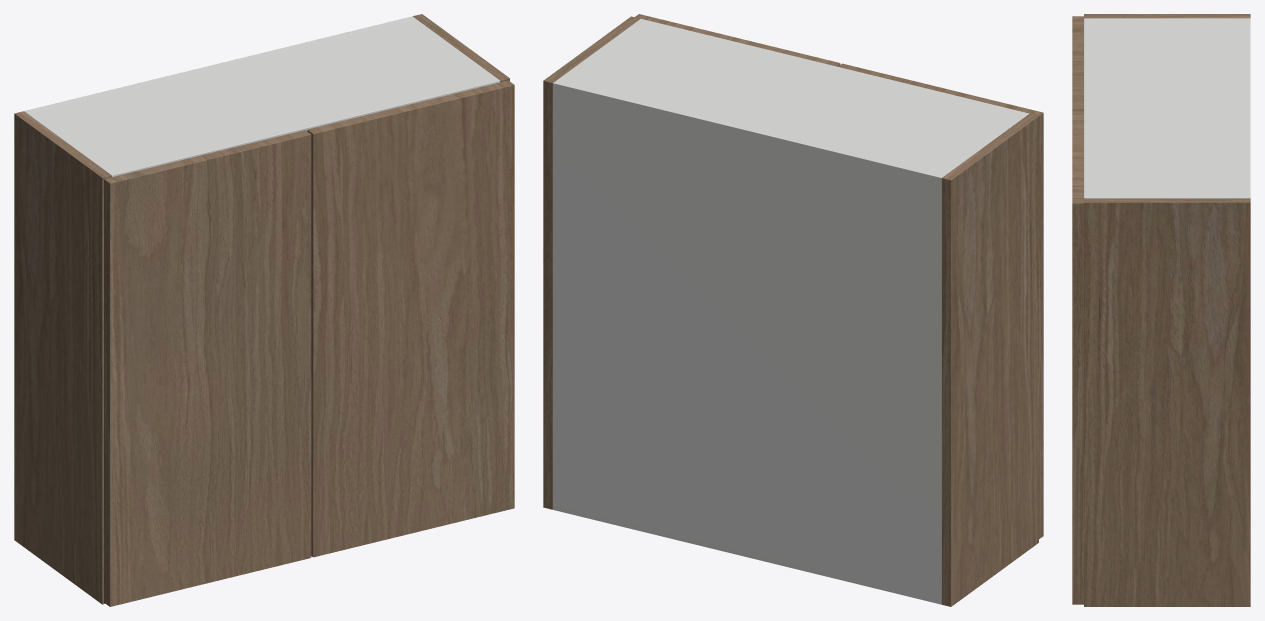
The model's file is oppein-pb-mnw-w3030.glb.
The picture shows the model from 3 angles, left to right: view 1: azimuth 30°, elevation 25°; view 2: azimuth 150°, elevation 25°; view 3: azimuth 270°, elevation 25°; orthographic projection. The views are drawn at different scales.
Visible parts, largest first — view 1: Door, Door.001, Cabinet side, Cabinet top, Cabinet back, Cabinet side.001; view 2: Cabinet back, Cabinet side, Cabinet top, Cabinet side.001, Cabinet bottom, Door, Door.001; view 3: Cabinet side.001, Cabinet top, Door.001, Cabinet back, Door, Cabinet side.
Part boxes in pixels (<box>): Door: <box>104,130,311,606</box>; Door.001: <box>307,80,514,557</box>; Cabinet side: <box>14,111,111,604</box>; Cabinet top: <box>24,16,500,176</box>; Cabinet back: <box>24,16,415,113</box>; Cabinet side.001: <box>413,14,509,82</box>; Cabinet back: <box>553,80,944,604</box>; Cabinet side: <box>941,113,1038,606</box>; Cabinet top: <box>553,19,1029,186</box>; Cabinet side.001: <box>543,16,640,509</box>; Cabinet bottom: <box>553,500,941,604</box>; Door: <box>838,63,1043,538</box>; Door.001: <box>635,14,840,66</box>; Cabinet side.001: <box>1084,198,1250,606</box>; Cabinet top: <box>1084,18,1250,198</box>; Door.001: <box>1072,110,1083,604</box>; Cabinet back: <box>1244,18,1250,198</box>; Door: <box>1072,16,1083,110</box>; Cabinet side: <box>1084,14,1250,18</box>.
Bounding box in the file's own units: 0.762 × 0.762 × 0.3048.
Materials: 2 (1 with a texture image).
